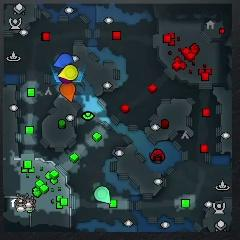p1: (53, 52, 73, 67)
p2: (95, 186, 111, 204)
p4: (59, 64, 78, 80)
p5: (59, 82, 75, 101)
